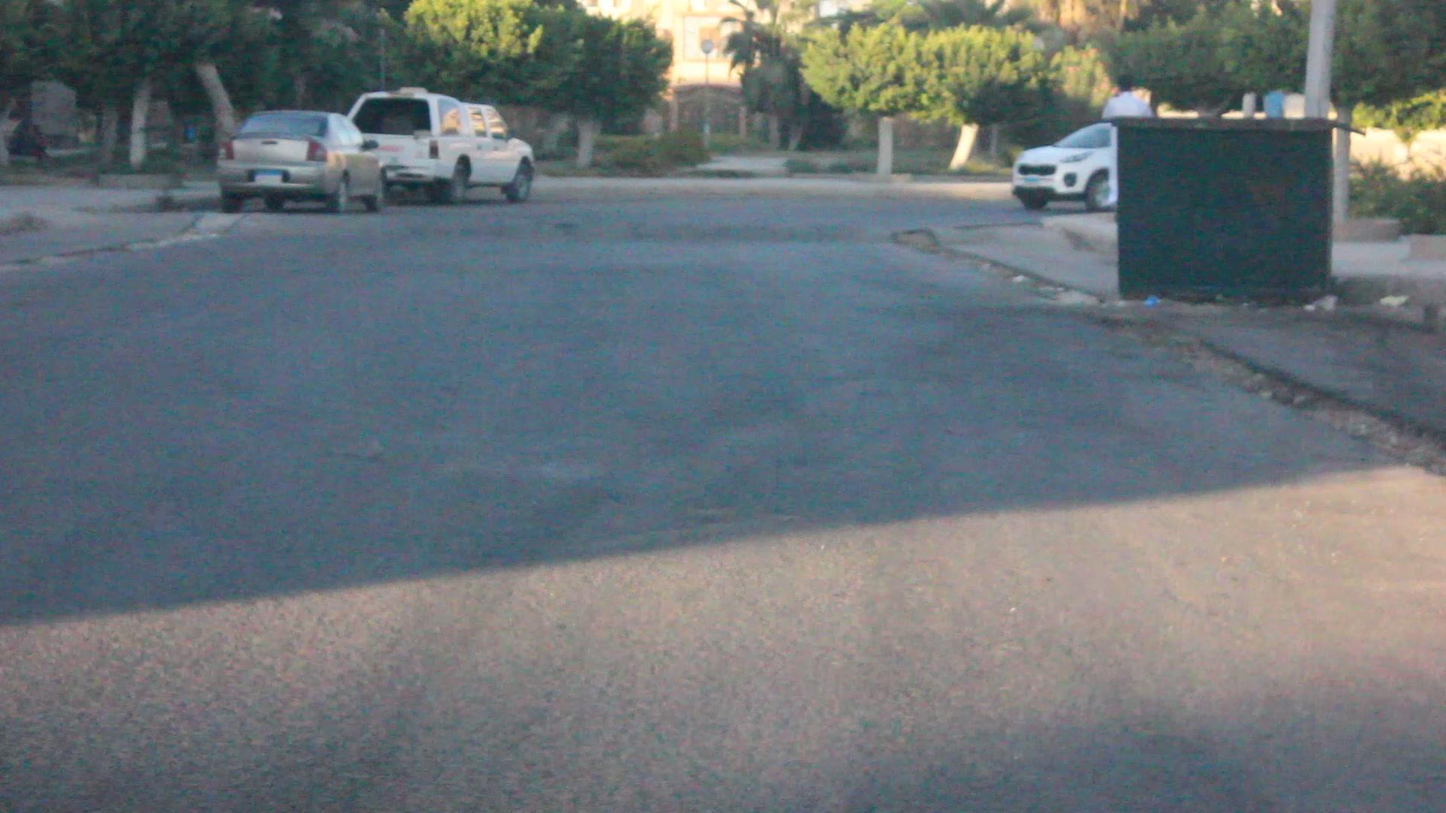Bump: (169, 203, 908, 245)
